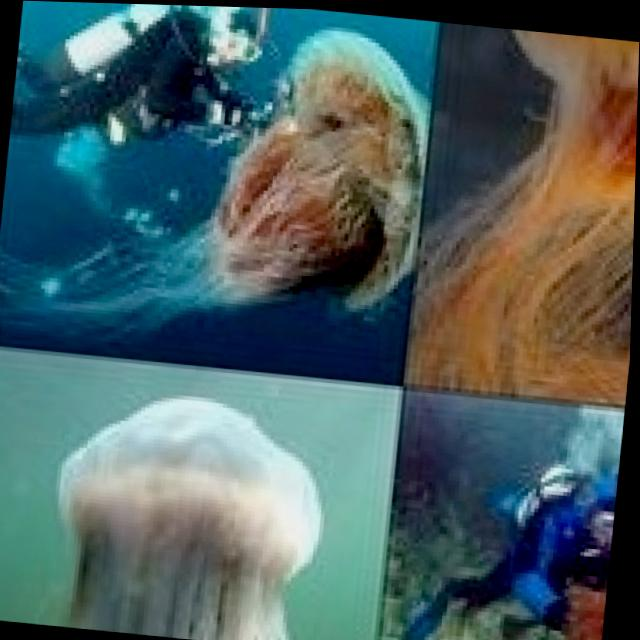Box-jellyfish: (0, 16, 435, 351)
Jellyfish: (9, 375, 363, 640)
